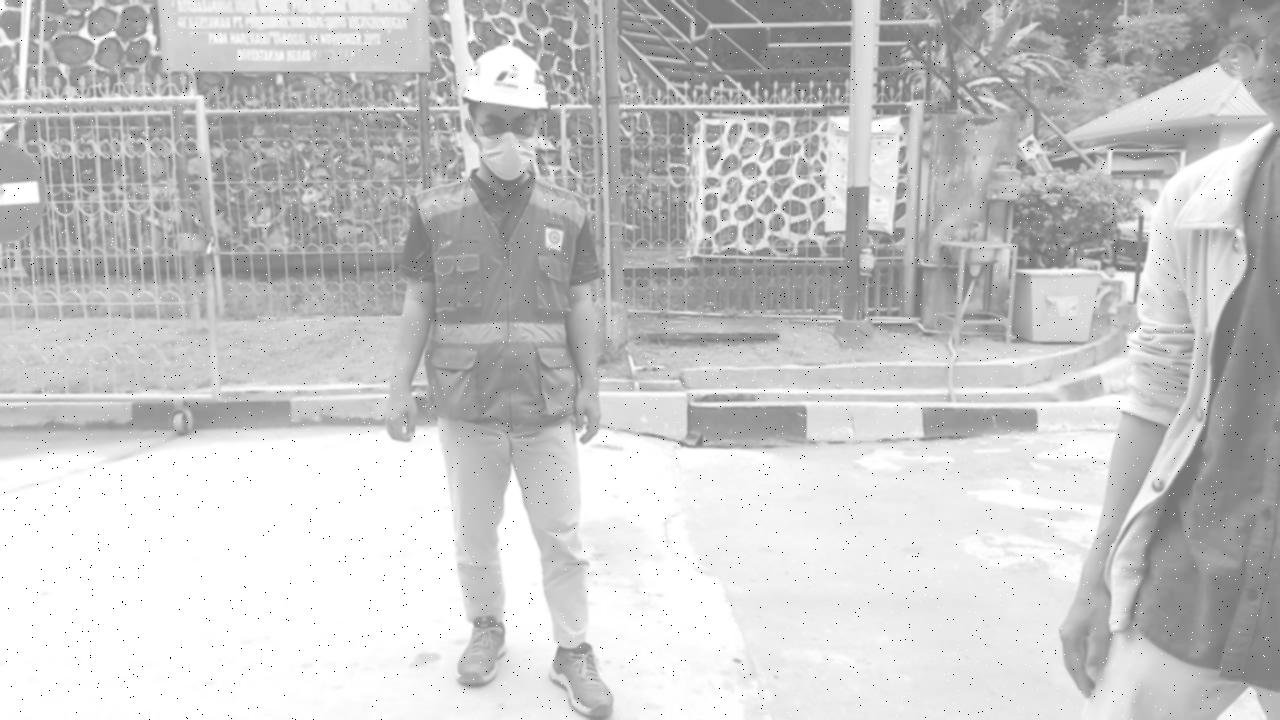helmet: (451, 38, 557, 117)
mask: (466, 129, 548, 185)
safety-shoes: (543, 642, 625, 719), (441, 612, 514, 690)
